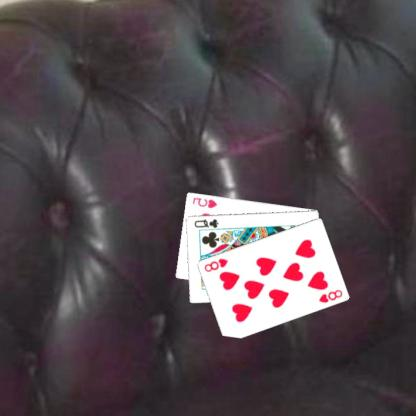5H: (192, 195, 220, 209)
8H: (203, 256, 231, 273), (318, 287, 345, 304)
QC: (194, 216, 222, 229)
